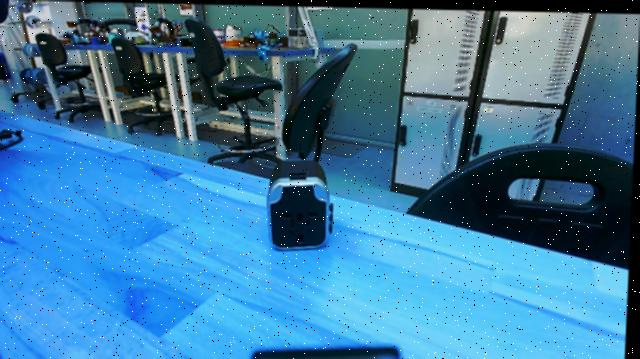adapter: (264, 156, 340, 261)
